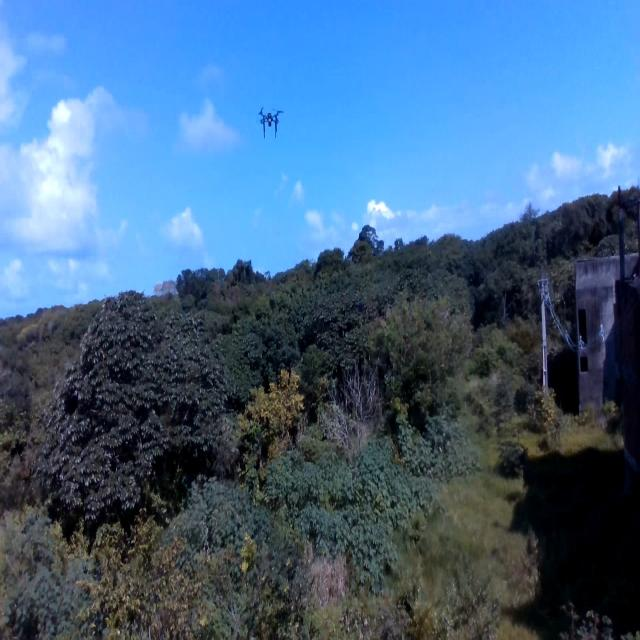-uav-: (250, 100, 290, 147)
